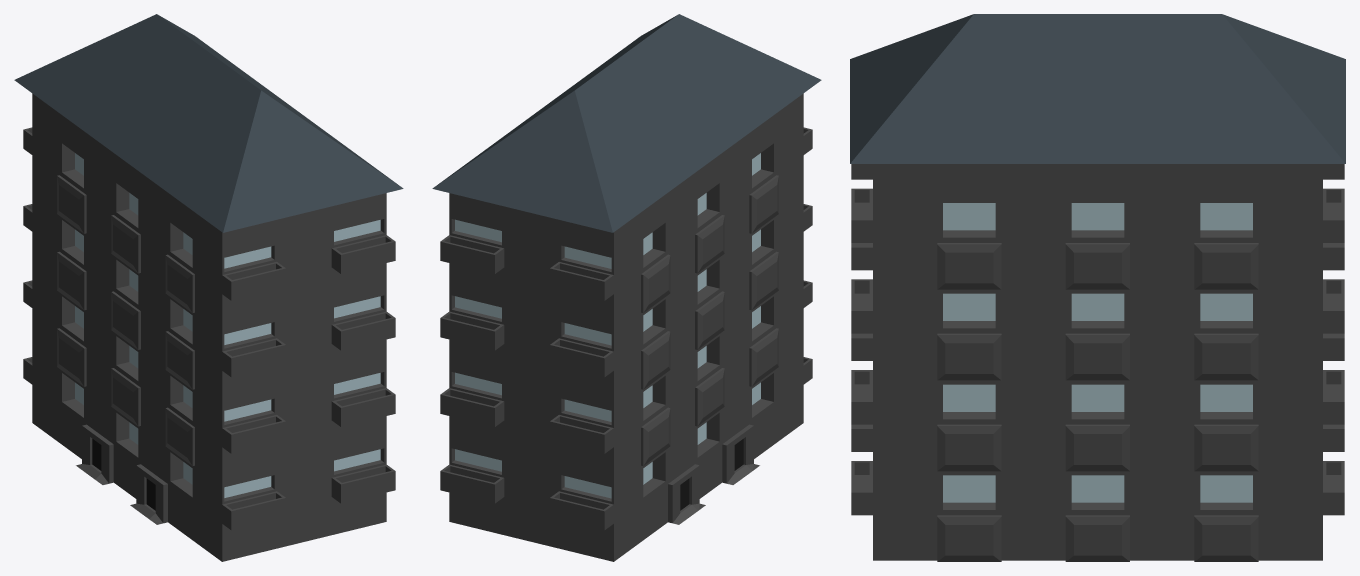
The model's file is Дом В1.fbx.
3 renders of one model, left to right at view 1: azimuth 30°, elevation 25°; view 2: azimuth 150°, elevation 25°; view 3: azimuth 270°, elevation 25°, orthographic. The views are drawn at different scales.
Parts seen in each view (by area): view 1: Cube, Cone; view 2: Cube, Cone; view 3: Cube, Cone.
Boxes of the visible parts, left/top/right/bottom form: Cube: left=23, top=93, right=395, bottom=561; Cone: left=14, top=14, right=403, bottom=232; Cube: left=440, top=93, right=812, bottom=561; Cone: left=432, top=14, right=821, bottom=232; Cube: left=851, top=164, right=1344, bottom=561; Cone: left=850, top=14, right=1345, bottom=163.
Bounding box in the file's own units: 223 × 489 × 440.
